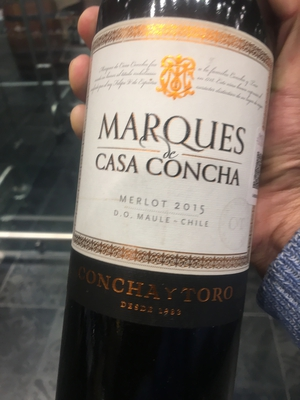marques de casa concha merlot: (73, 1, 282, 389)
